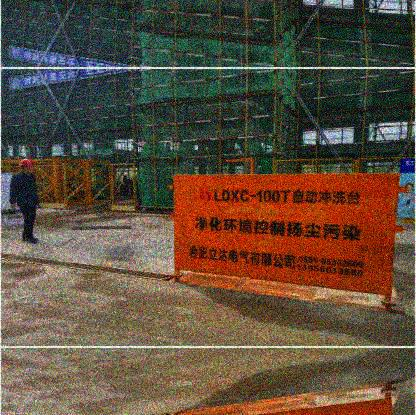helmet: (20, 158, 34, 173)
